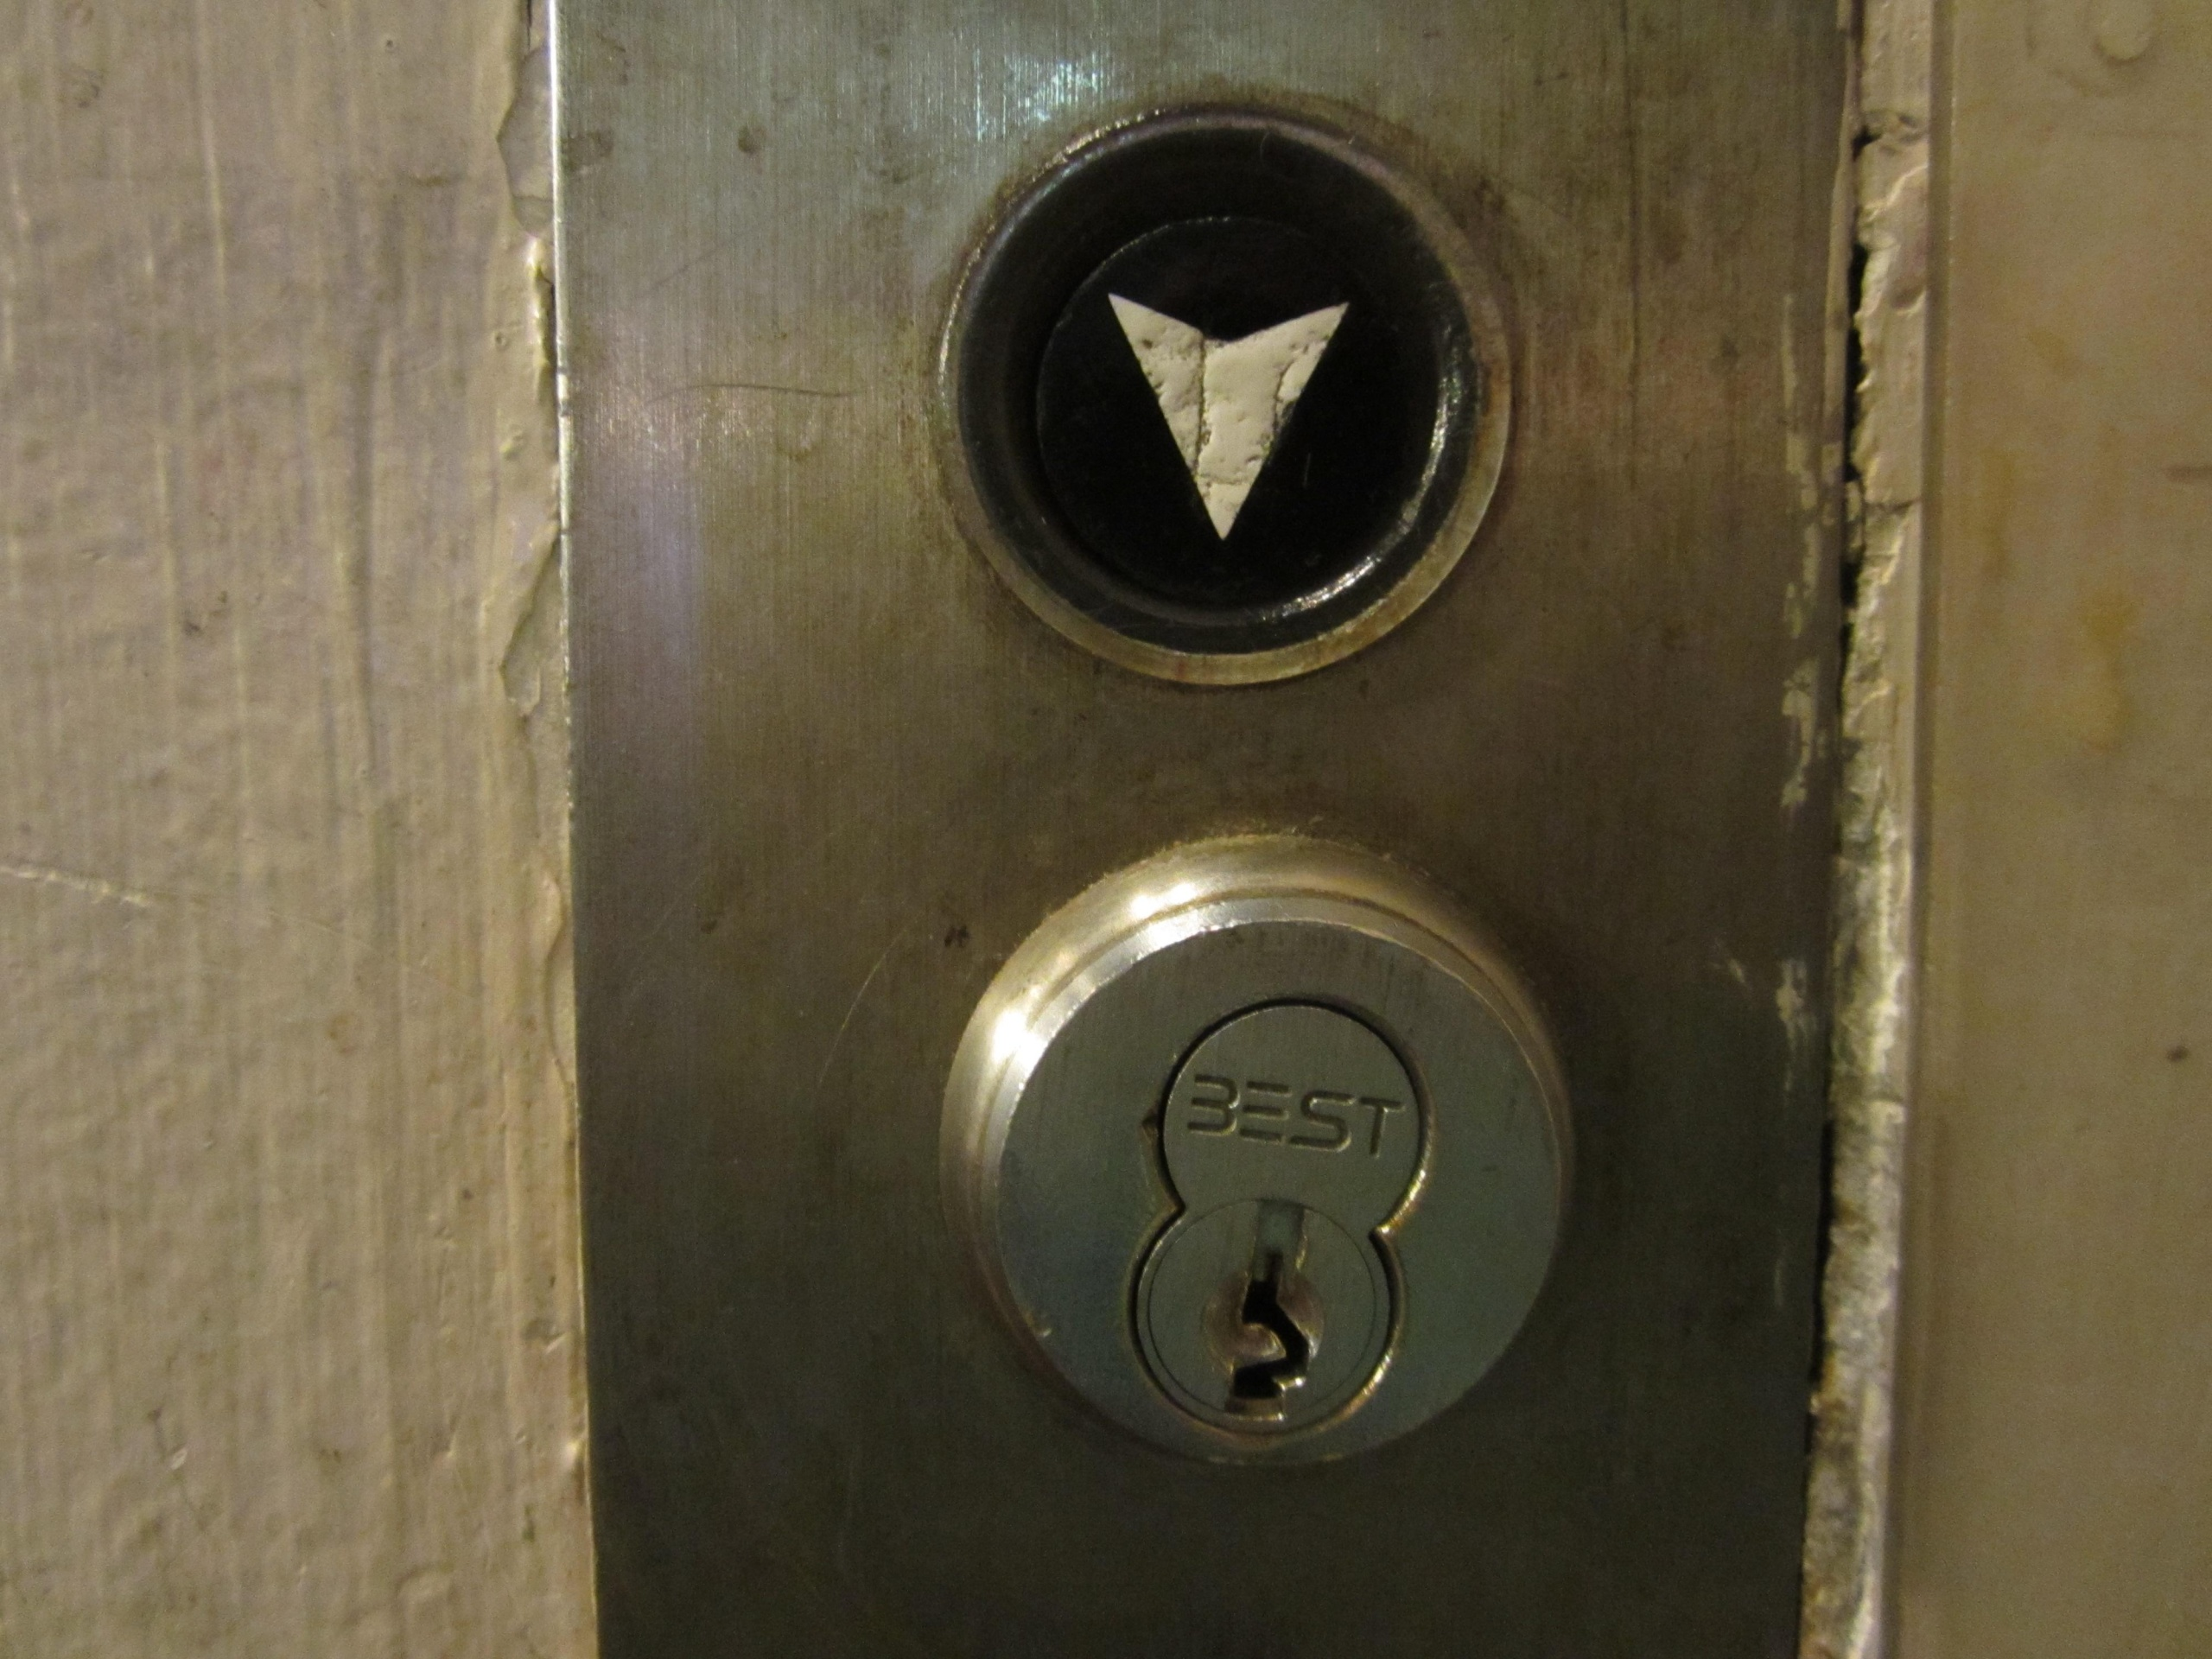down: (932, 105, 1517, 690)
keyhole: (928, 823, 1588, 1478)
